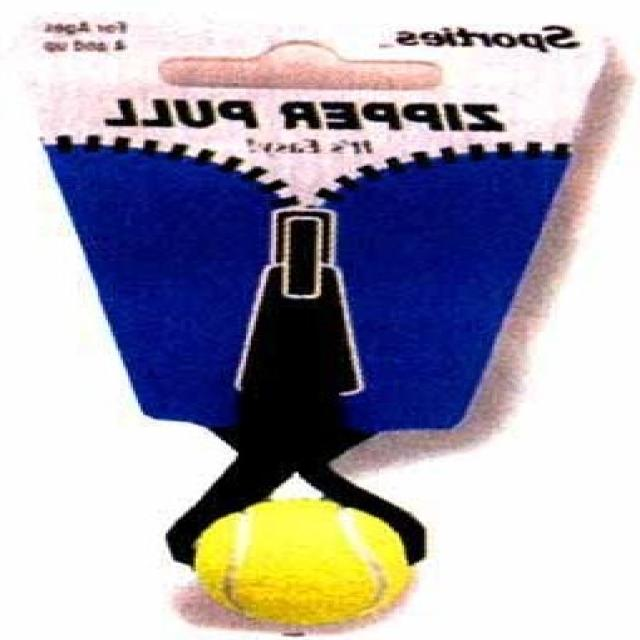Tennis Ball: (193, 496, 414, 630)
